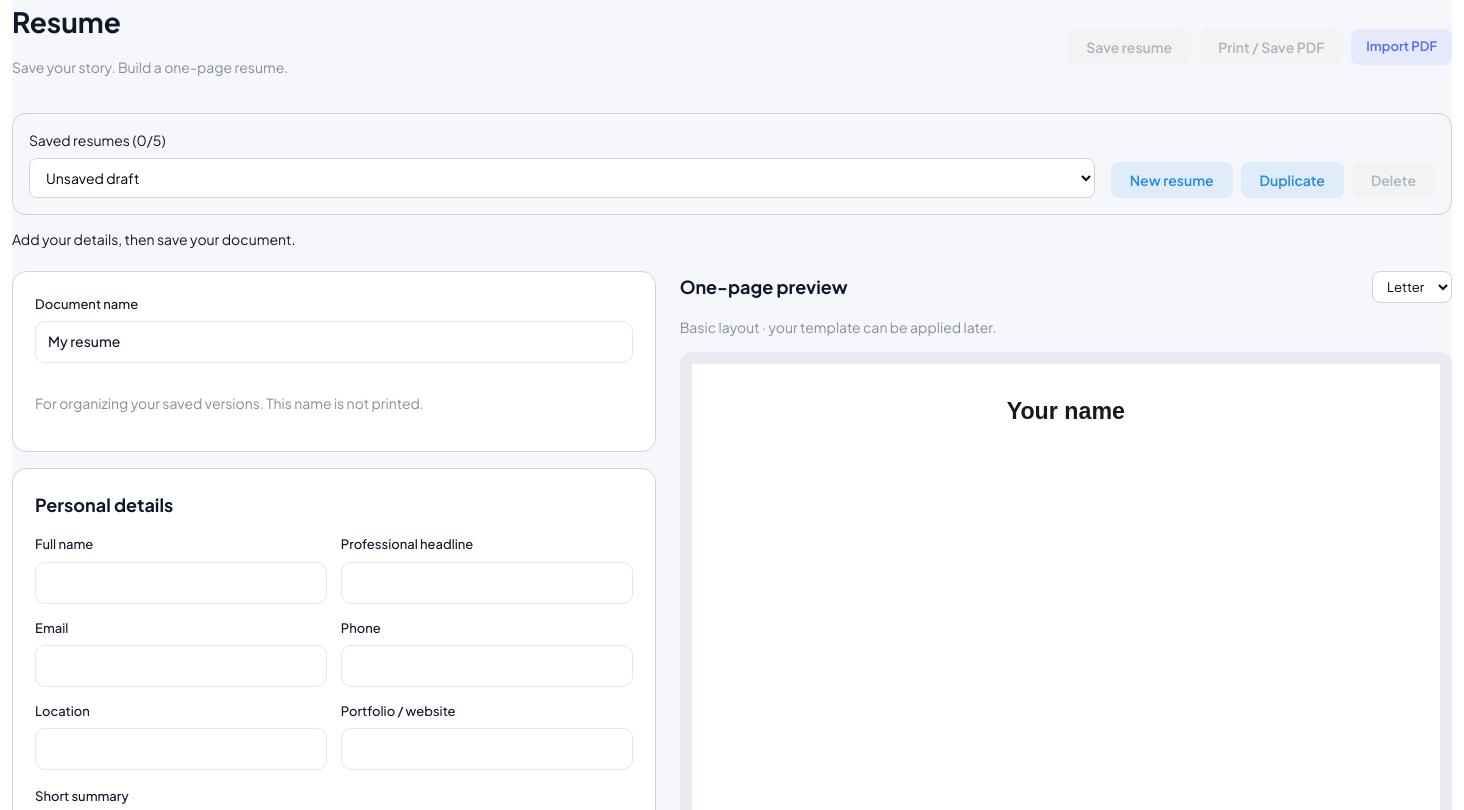
Test: rechecks the page overflow warning when the paper size changes
The image size is (1464, 810).
Expected: the text "Add your details, then save your document." is shown, [12, 230, 296, 248]
Select "A4" in the dropdown named "Paper size" at (1412, 287), box [1372, 271, 1452, 303]
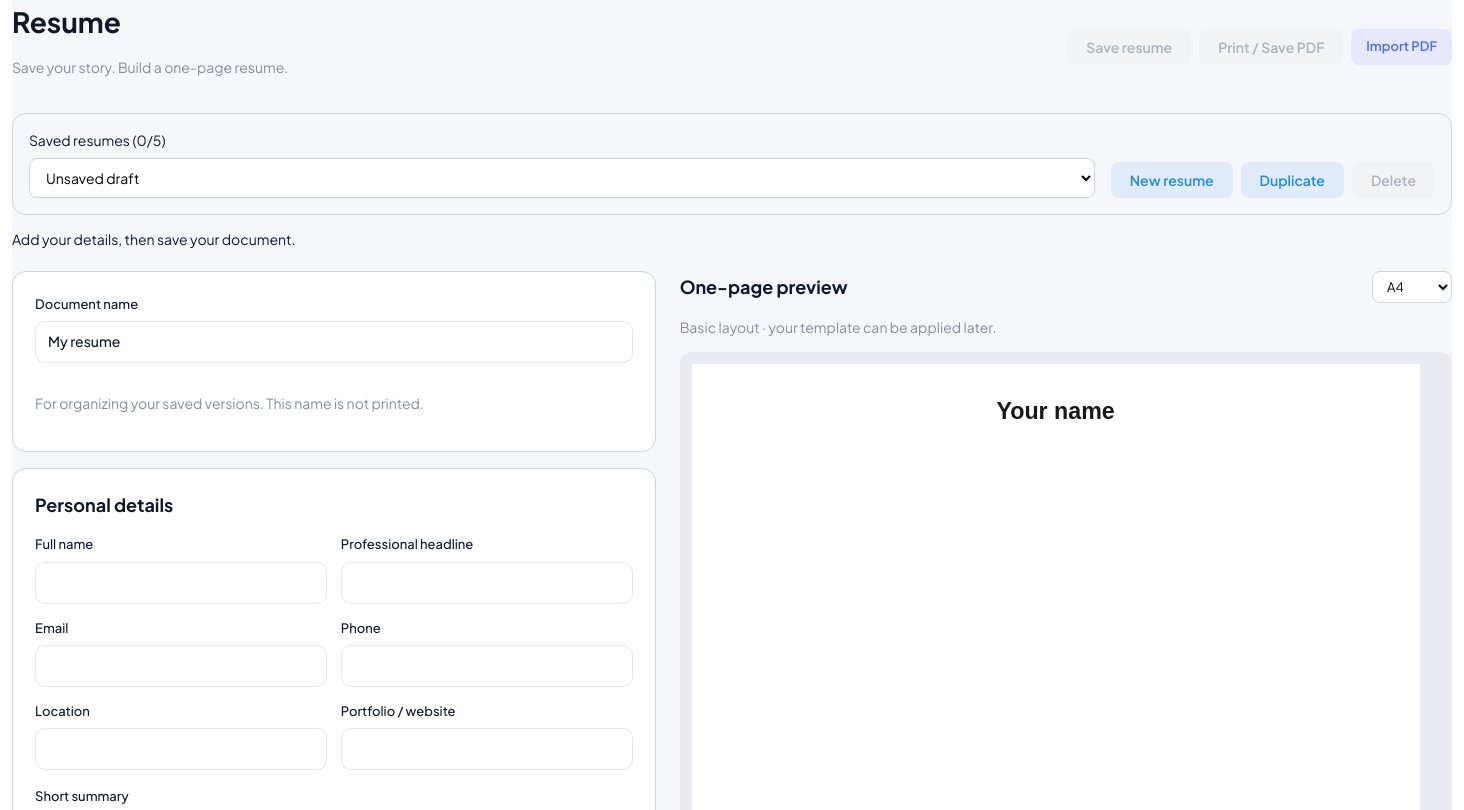
Select "Letter" in the dropdown named "Paper size" at (1412, 287), box [1372, 271, 1452, 303]
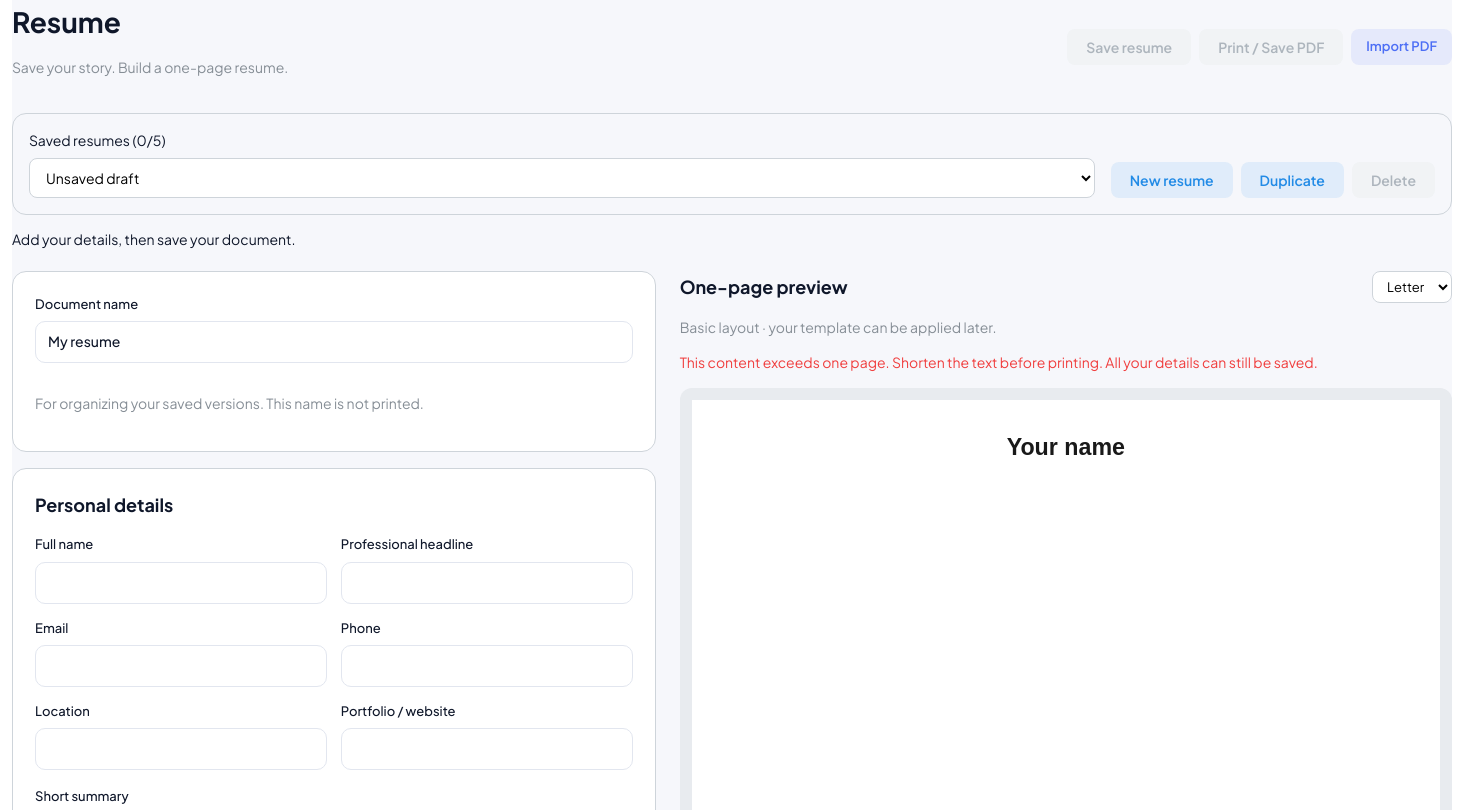
Now the text "This content exceeds one page" is shown, box [680, 354, 1318, 372]
Select "A4" in the dropdown named "Paper size" at (1412, 287), box [1372, 271, 1452, 303]
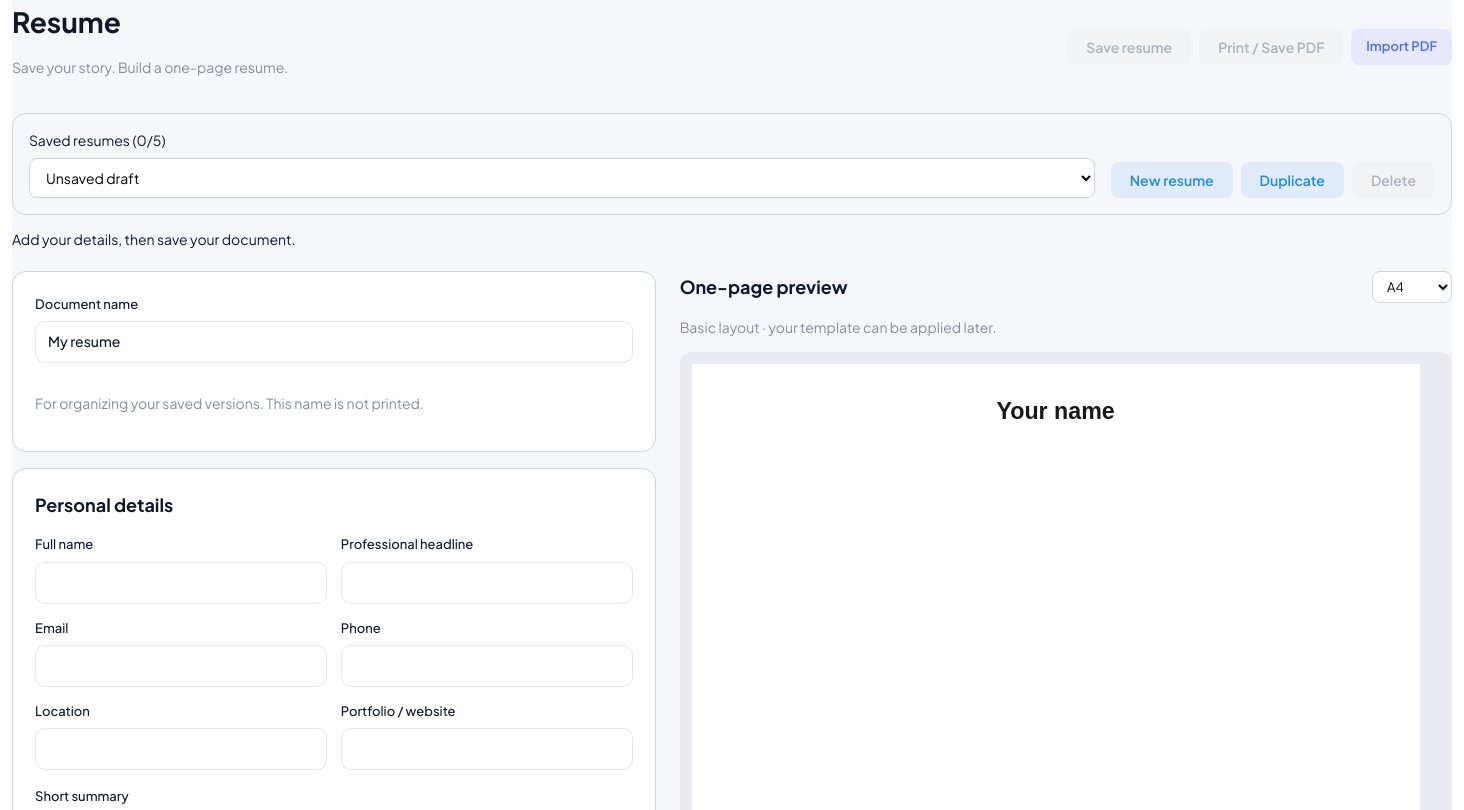
Now the text "This content exceeds one page" is gone
